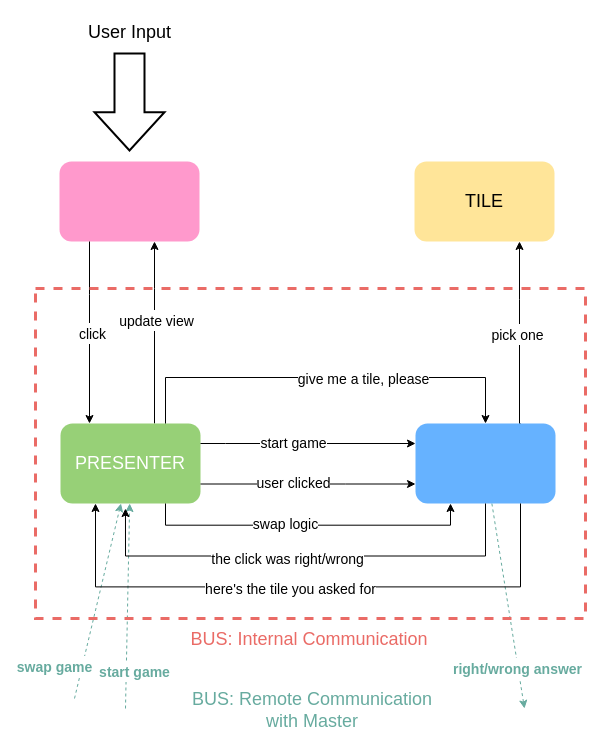
The diagram is 604 pixels wide and 751 high, and some of its shapes have lost their labels. Each missing label, with the centre of its shape:
"CONTROLLER" belongs at (485,463).
"UI" belongs at (129,201).
